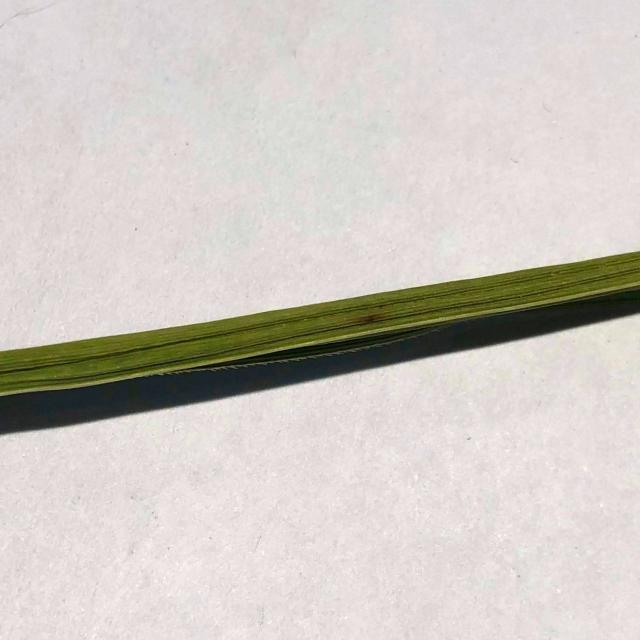brownspots: (349, 305, 388, 335)
